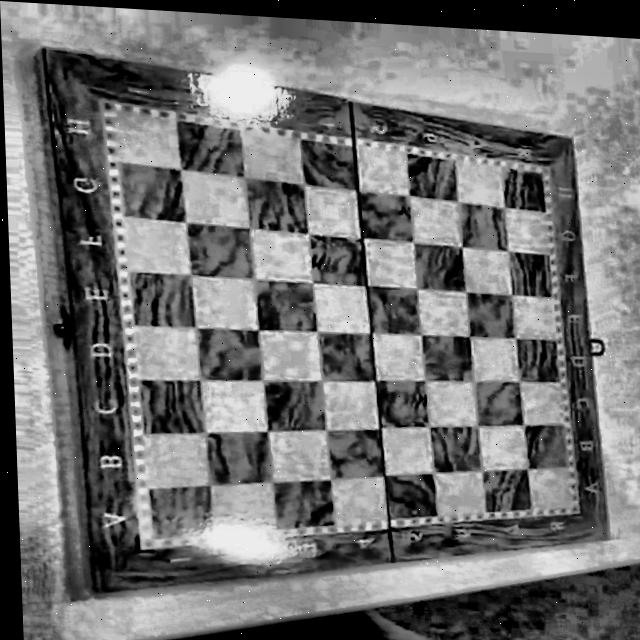chessboard: (48, 49, 612, 591)
